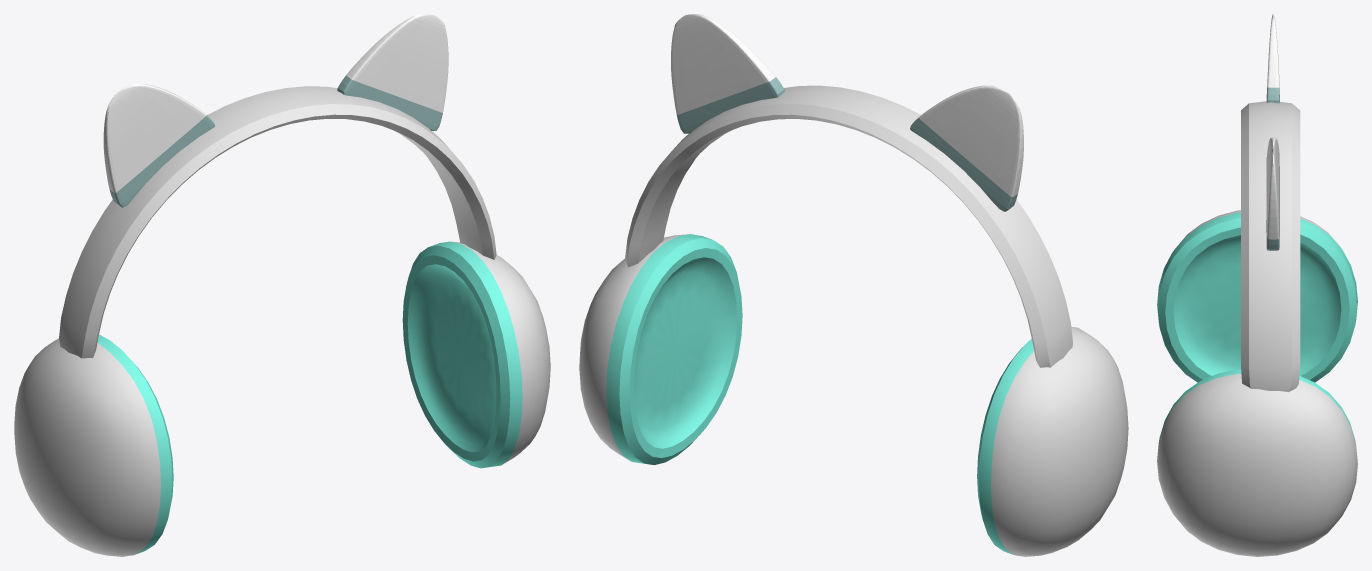
Rendered from earphone.fbx.
3 renders of one model, left to right at view 1: azimuth 30°, elevation 25°; view 2: azimuth 150°, elevation 25°; view 3: azimuth 270°, elevation 25°, orthographic. The views are drawn at different scales.
Parts seen in each view (by area): view 1: Cube, 柱体, 立方体; view 2: Cube, 柱体, 立方体; view 3: Cube, 柱体, 立方体.
Boxes of the visible parts, <box> form: Cube: <box>14,241,550,556</box>; 柱体: <box>59,86,496,358</box>; 立方体: <box>103,14,448,207</box>; Cube: <box>579,234,1128,556</box>; 柱体: <box>625,85,1072,367</box>; 立方体: <box>671,14,1023,211</box>; Cube: <box>1157,210,1357,556</box>; 柱体: <box>1241,101,1300,392</box>; 立方体: <box>1266,14,1279,250</box>.
Size of the model in its own units: 232 by 200 by 92.15.
